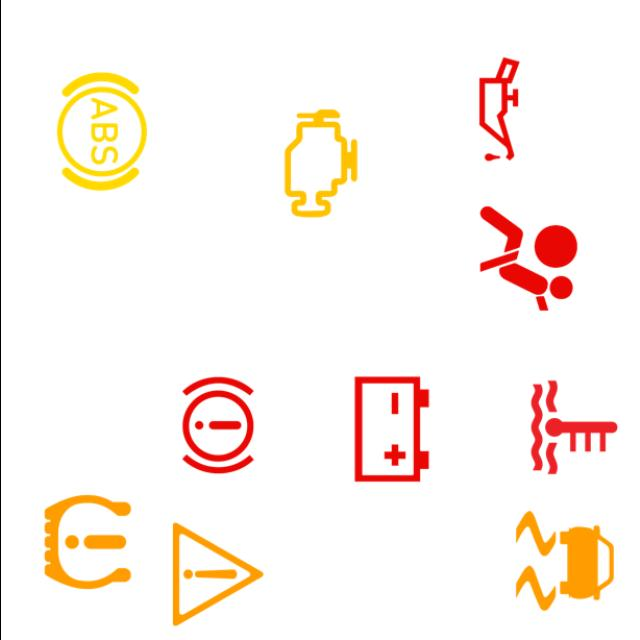Anti Lock Braking System: (36, 66, 166, 196)
Braking System Issue: (152, 360, 282, 490)
Charging System Issue: (326, 364, 456, 494)
Check Engine: (255, 99, 385, 228)
Electronic Stability Problem -ESP-: (499, 496, 629, 626)
Engine Overheating Warning Light: (508, 362, 638, 492)
Low Engine Oil Warning Light: (433, 44, 563, 174)
Low Tire Pressure Warning Light: (22, 477, 152, 607)
Master warning light: (152, 510, 282, 640)
SRS-Airbag: (462, 194, 592, 324)
